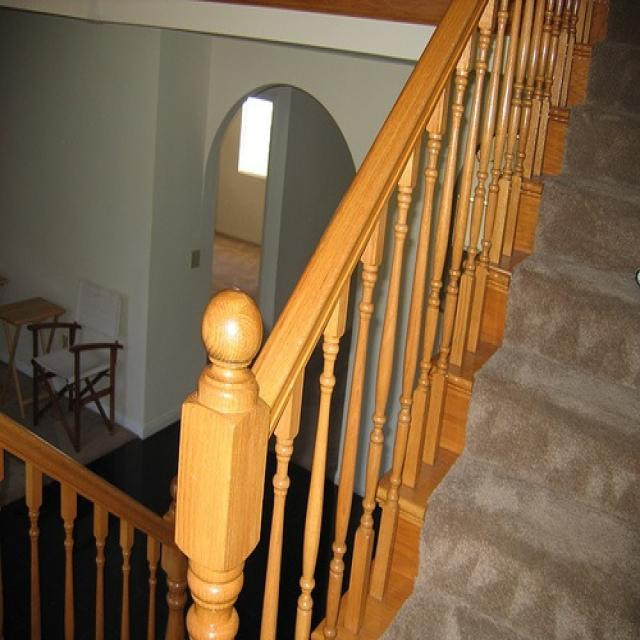chair: (29, 276, 123, 450)
